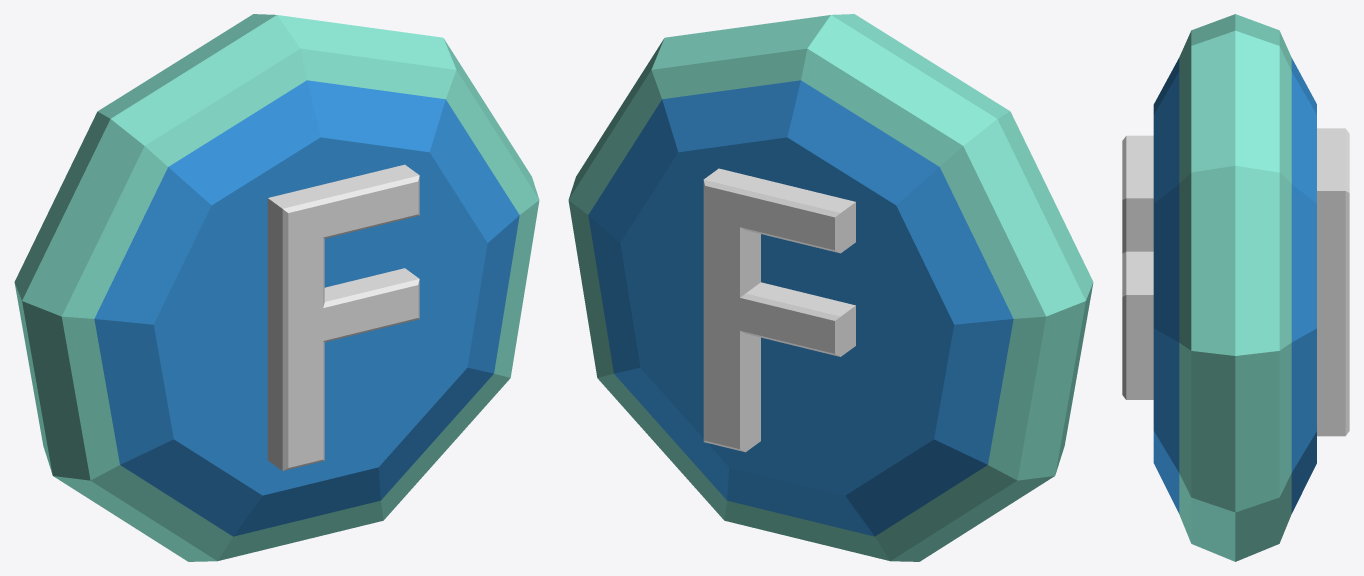
The model's file is F Button.fbx.
3 views of the same model, side by side, from view 1: azimuth 30°, elevation 25°; view 2: azimuth 150°, elevation 25°; view 3: azimuth 270°, elevation 25° (orthographic). The views are drawn at different scales.
Visible parts, largest first — view 1: F Button, F 2; view 2: F Button, F 1; view 3: F Button, F 1, F 2.
Part boxes in pixels (x1,y1,x2,y2): F Button: (14,14,539,561); F 2: (267,164,419,470); F Button: (568,14,1093,561); F 1: (703,168,855,452); F Button: (1153,14,1316,561); F 1: (1317,128,1349,436); F 2: (1122,135,1153,399).
Size of the model in its own units: 197 by 194 by 81.32.
